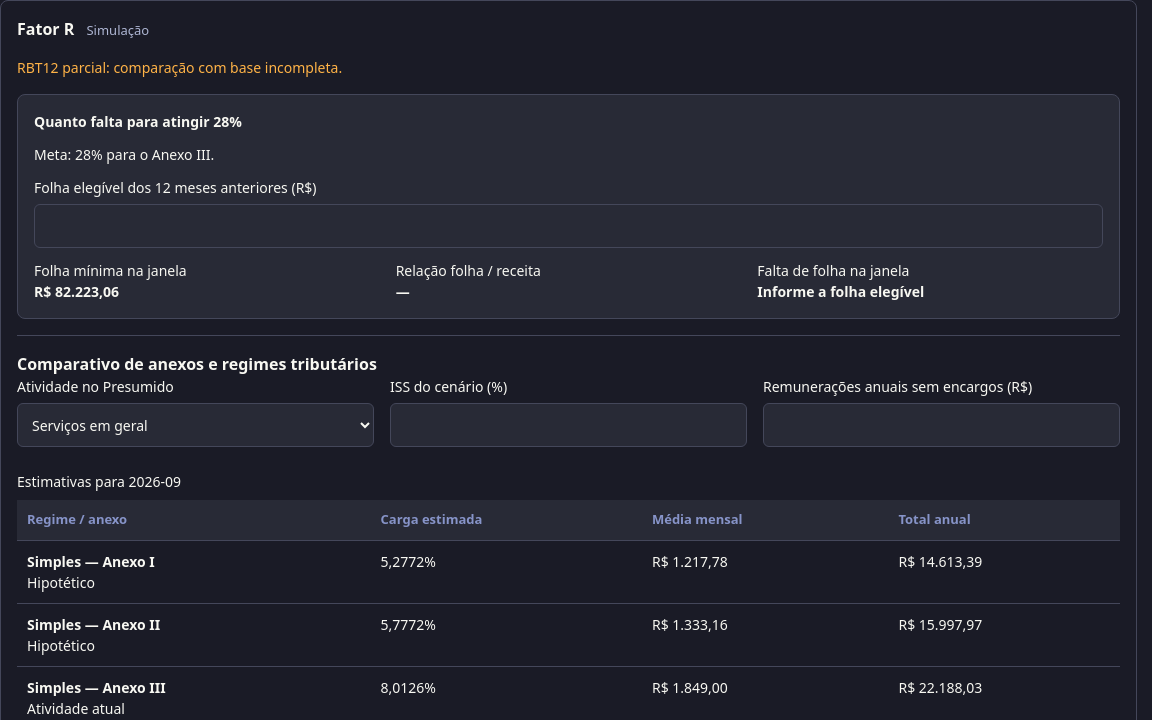
it: limitações de folha, ISS e RBT12 parcial ficam explícitas e ISS inválido bloqueia
Expected: the text "RBT12 parcial: comparação com base incompleta." is shown, [17,58,342,77]
Type "10" into the number field labelled "ISS do cenário (%)". click: [568, 425]
box: [390,403,747,447]
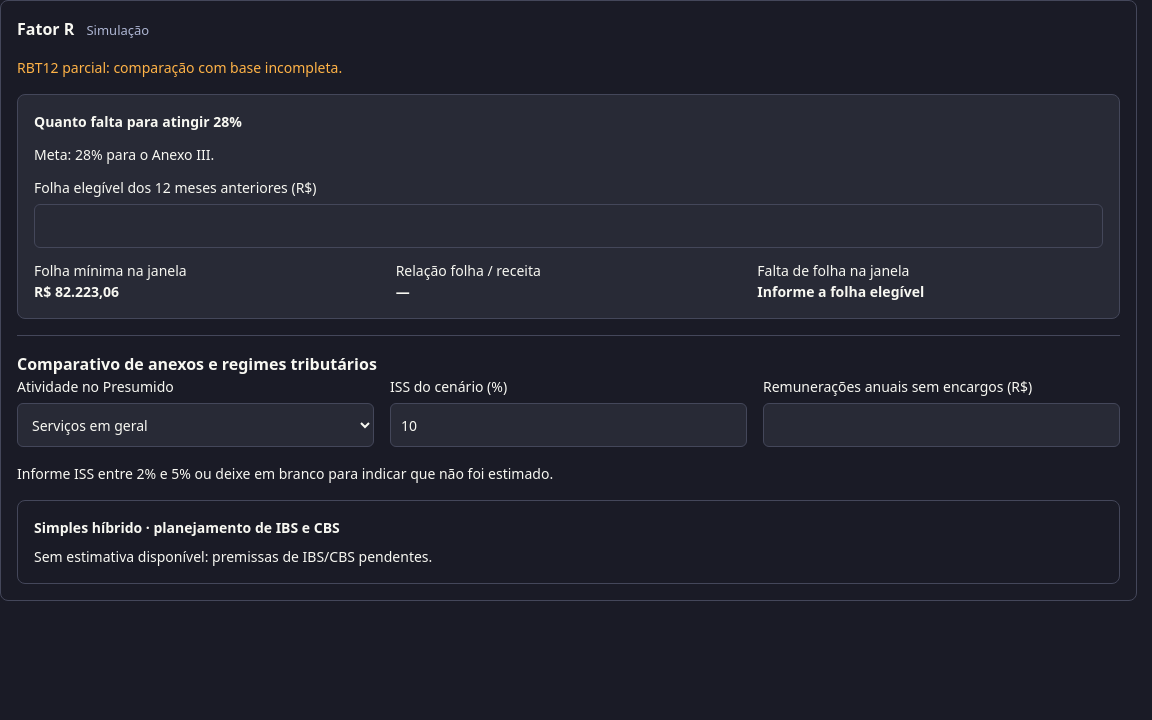
Now the 2nd message shows "entre 2% e 5%", box [17,464,553,483]
